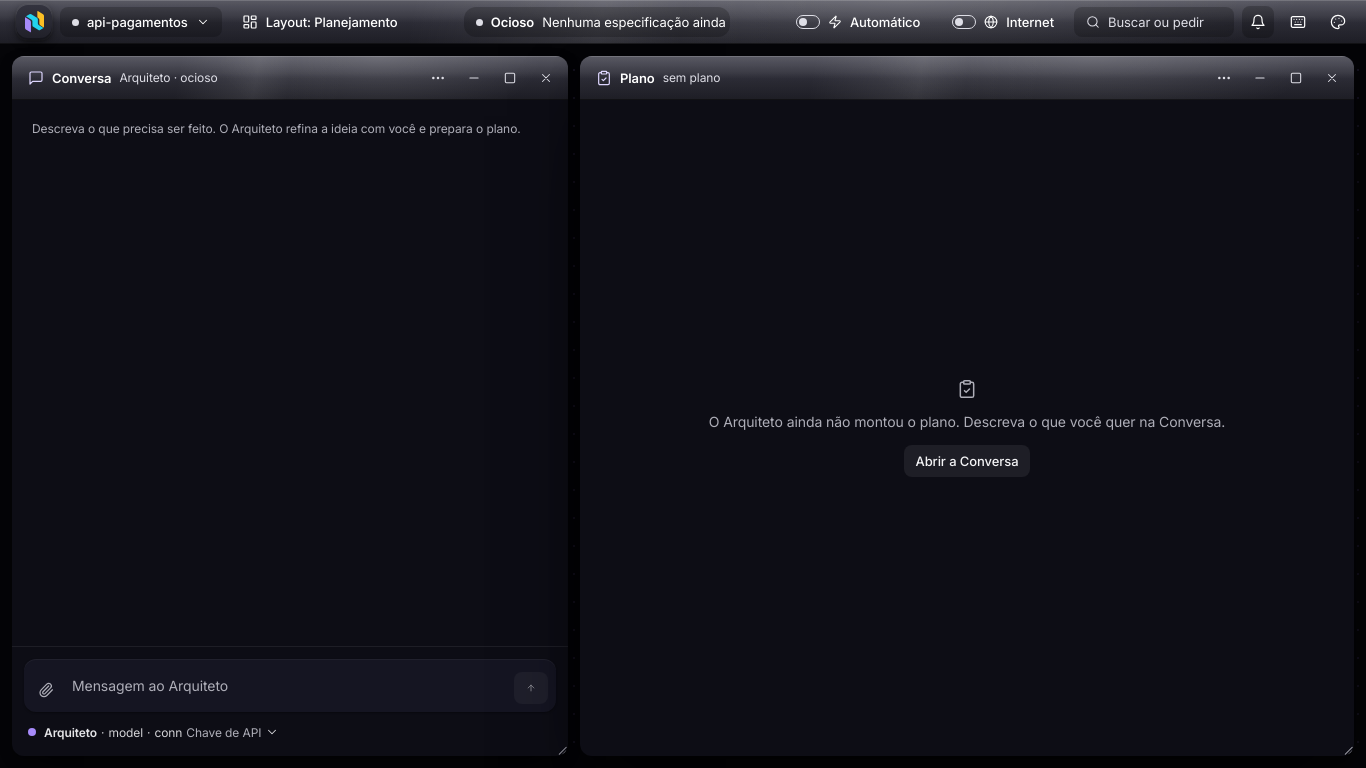
Test: resposta do Arquiteto: dedupe por turn_id › 504 com draft_saved: avisa que o plano foi salvo
The image size is (1366, 768).
Type "oi" into the text box named "Mensagem para o Arquiteto" at (287, 686), box [68, 667, 506, 704]
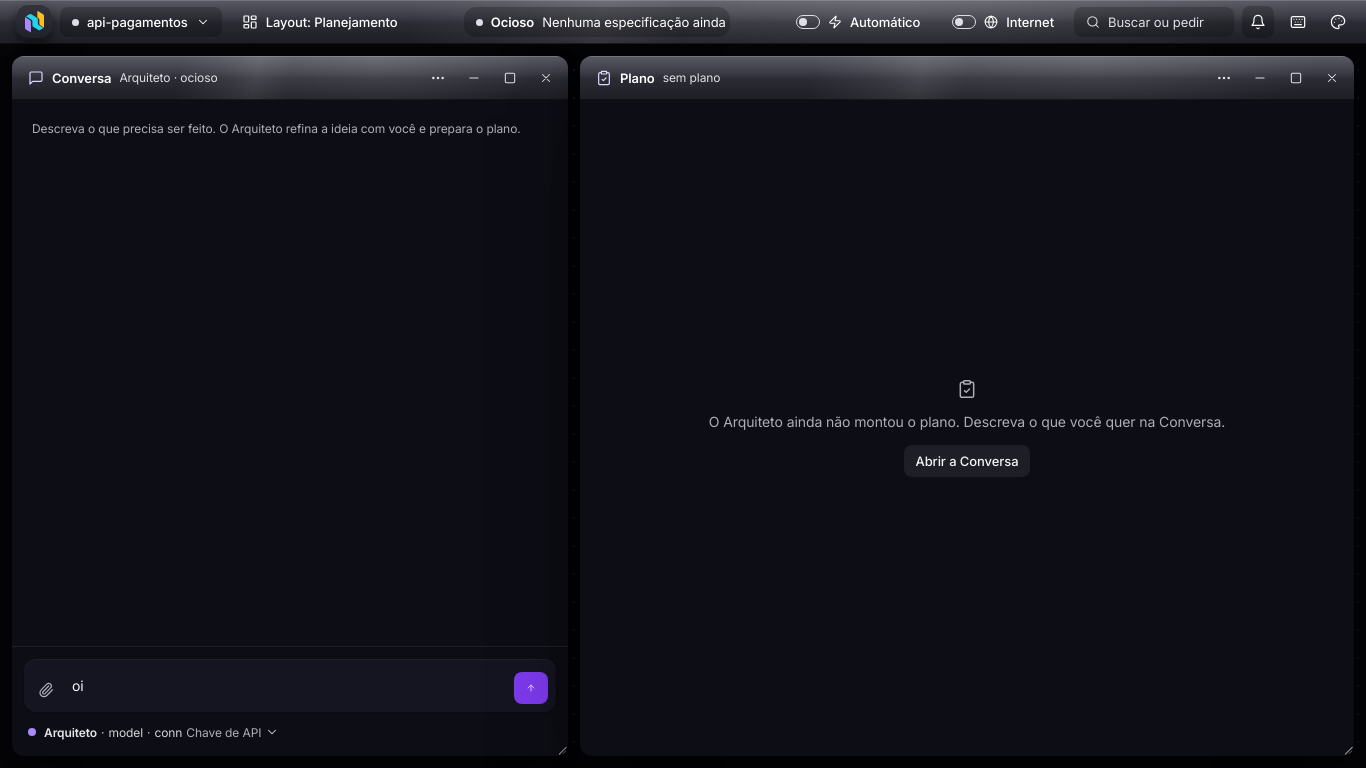
Press Enter in the text box named "Mensagem para o Arquiteto", box [68, 667, 506, 704]
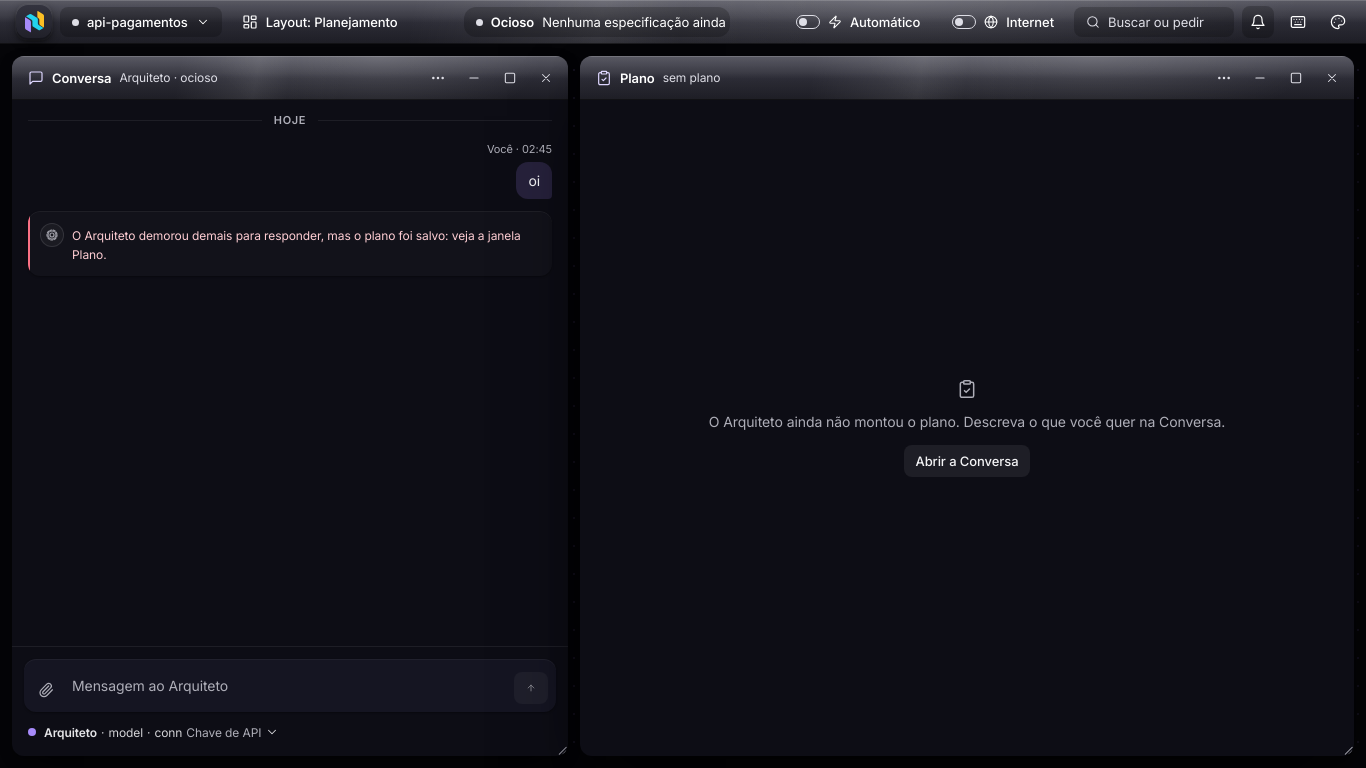
Check: the text "O Arquiteto demorou demais para responder, mas o plano foi salvo: veja a janela Plano." is shown, box [72, 228, 524, 262]
